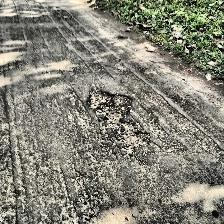pothole: (84, 88, 136, 120), (120, 121, 152, 153)
